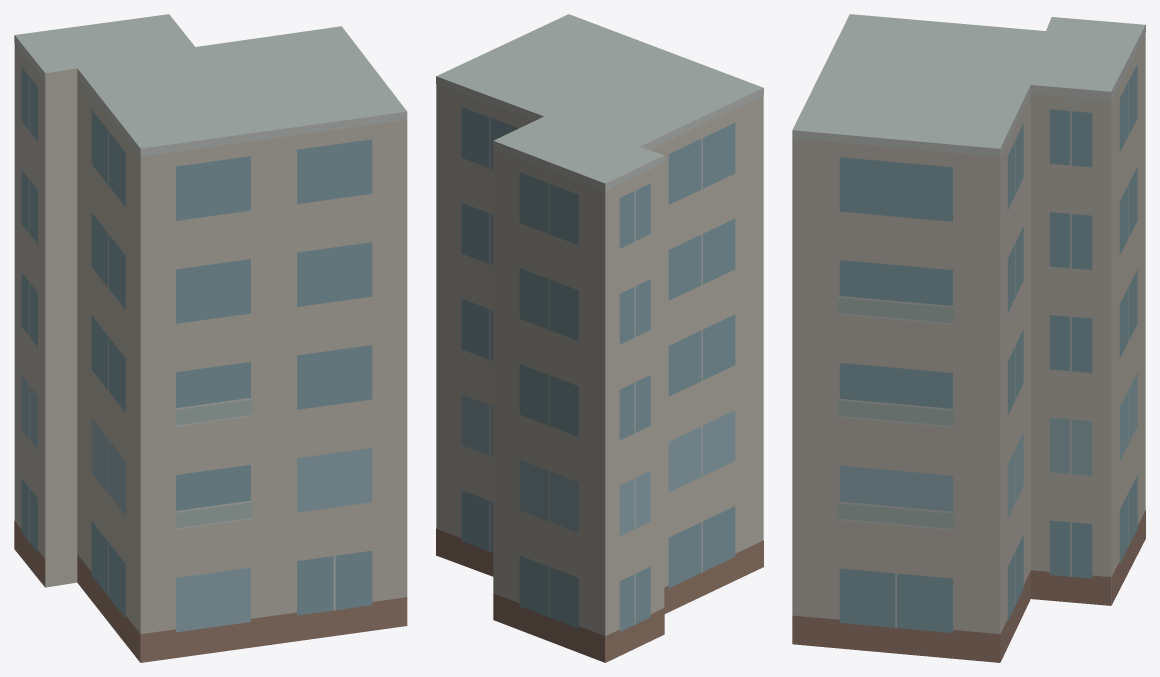
Rendered from survey-upis-32985398.glb.
3 renders of one model, left to right at view 1: azimuth 30°, elevation 25°; view 2: azimuth 150°, elevation 25°; view 3: azimuth 270°, elevation 25°, orthographic. The views are drawn at different scales.
Parts seen in each view (by area): view 1: survey-upis-32985398.tmp; view 2: survey-upis-32985398.tmp; view 3: survey-upis-32985398.tmp.
Part boxes in pixels (x1,y1,x2,y2): survey-upis-32985398.tmp: [14, 14, 407, 662]; survey-upis-32985398.tmp: [436, 14, 763, 662]; survey-upis-32985398.tmp: [792, 14, 1145, 662].
Bounding box in the file's own units: 8.67 × 15.4 × 9.6.
